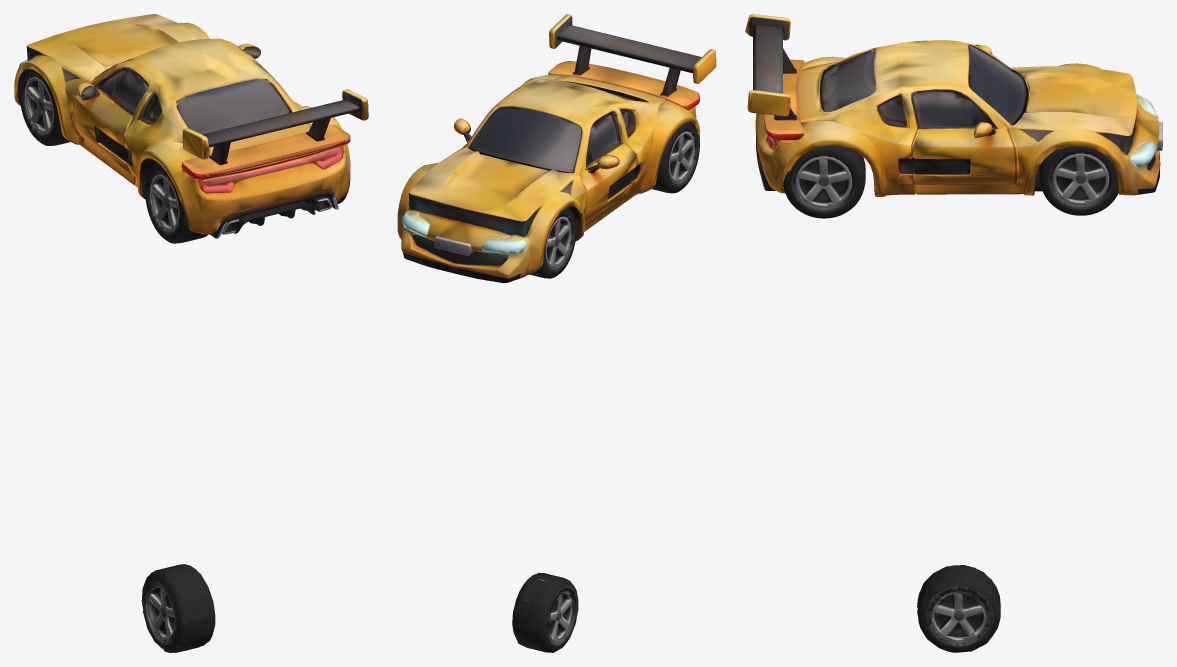
Rendered from sportscar3.glb.
The picture shows the model from 3 angles, left to right: view 1: azimuth 30°, elevation 25°; view 2: azimuth 150°, elevation 25°; view 3: azimuth 270°, elevation 25°; orthographic projection. The views are drawn at different scales.
Parts seen in each view (by area): view 1: Body, WheelLiteL, WheelLiteR, Wheel.RL, Wheel.FL; view 2: Body, WheelLiteL, Wheel.RL, WheelLiteR, Wheel.FL; view 3: Body, Wheel.RR, Wheel.FR, WheelLiteR, WheelLiteL.
Part boxes in pixels (x1,y1,x2,y2): Body: [14, 14, 368, 238]; WheelLiteL: [141, 564, 211, 652]; WheelLiteR: [142, 564, 215, 652]; Wheel.RL: [145, 162, 207, 243]; Wheel.FL: [19, 69, 69, 145]; Body: [397, 14, 716, 283]; WheelLiteL: [515, 573, 578, 652]; Wheel.RL: [652, 122, 699, 193]; WheelLiteR: [512, 572, 577, 652]; Wheel.FL: [529, 207, 576, 278]; Body: [745, 14, 1162, 196]; Wheel.RR: [783, 145, 865, 218]; Wheel.FR: [1039, 146, 1118, 215]; WheelLiteR: [917, 565, 1000, 652]; WheelLiteL: [917, 565, 1000, 649].
Size of the model in its own units: 2.16 by 6.93 by 4.42.
Materials: 2 (2 with a texture image).
